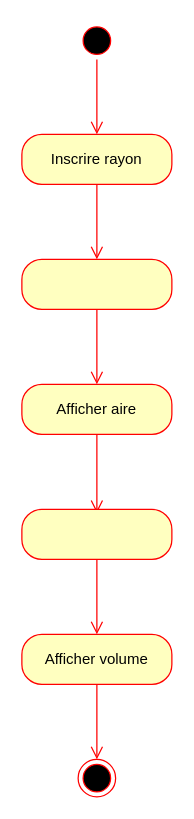
The diagram is 194 pixels wide and 819 high, and some of its shapes have lost their labels. The shapes that lost their labels are listed below. From the top down, each one's centre as x and y in pixels, then its label:
At pixel 96 283: "aire <-- 4*Math.PI*R^2".
At pixel 96 533: "volume <-- 4/3*Math.PI*R^3".
